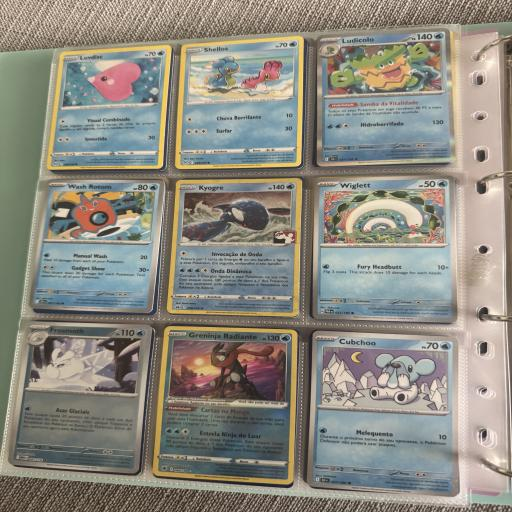card: (307, 330, 464, 497), (153, 321, 304, 485), (8, 316, 153, 474), (309, 176, 458, 325), (309, 28, 457, 171), (166, 174, 303, 317), (29, 175, 166, 313), (174, 33, 304, 172), (47, 44, 171, 171)
